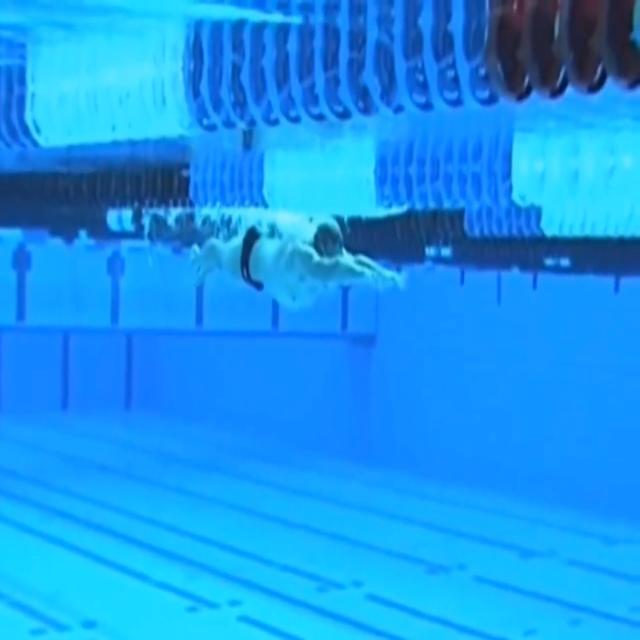Swimming: (189, 221, 404, 312)
